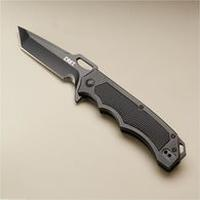knife: (12, 21, 175, 154)
